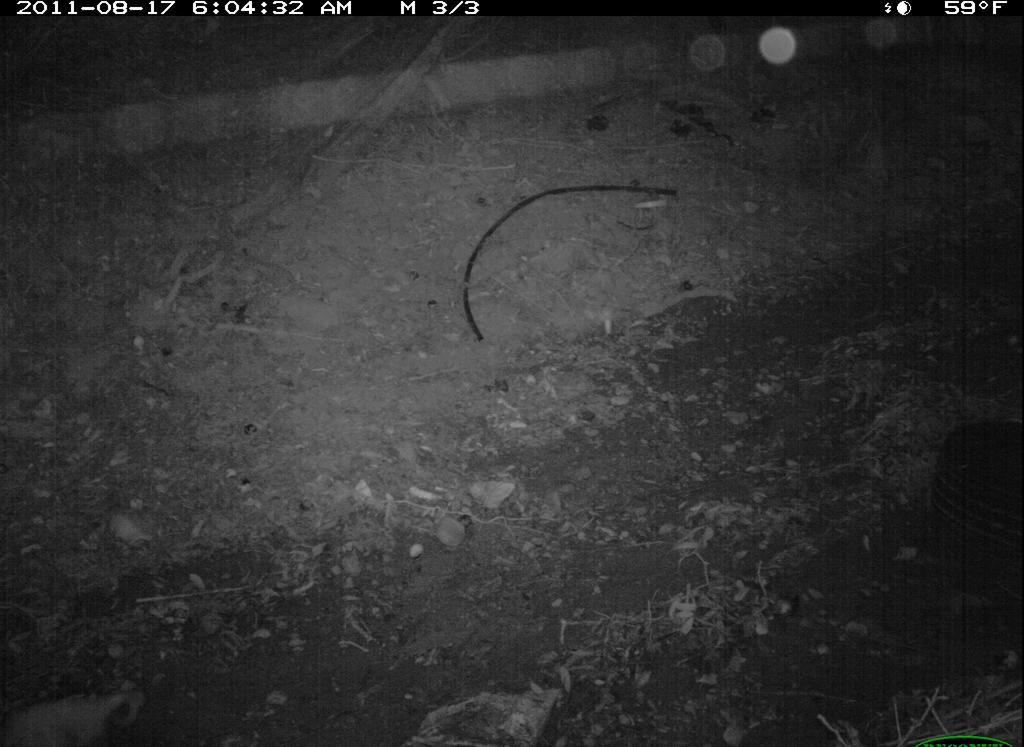opossum: (3, 663, 143, 747)
